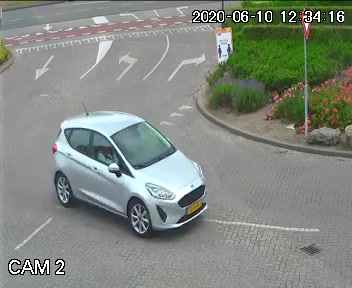car: (45, 101, 220, 235)
